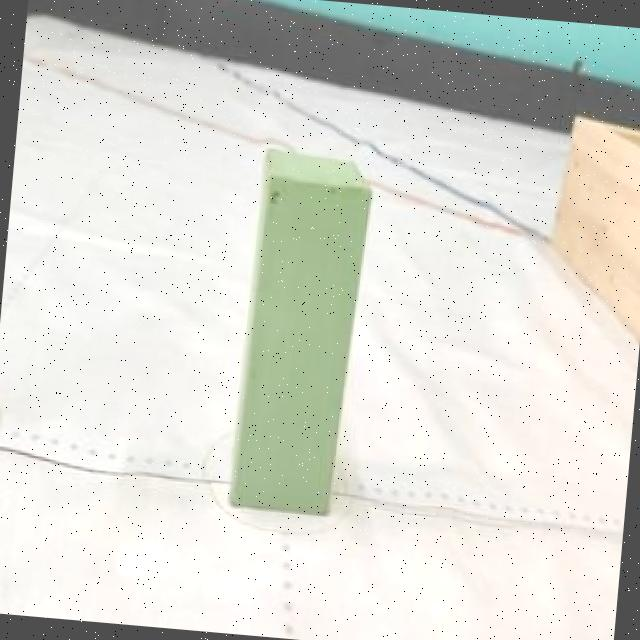greenbox: (222, 138, 381, 520)
